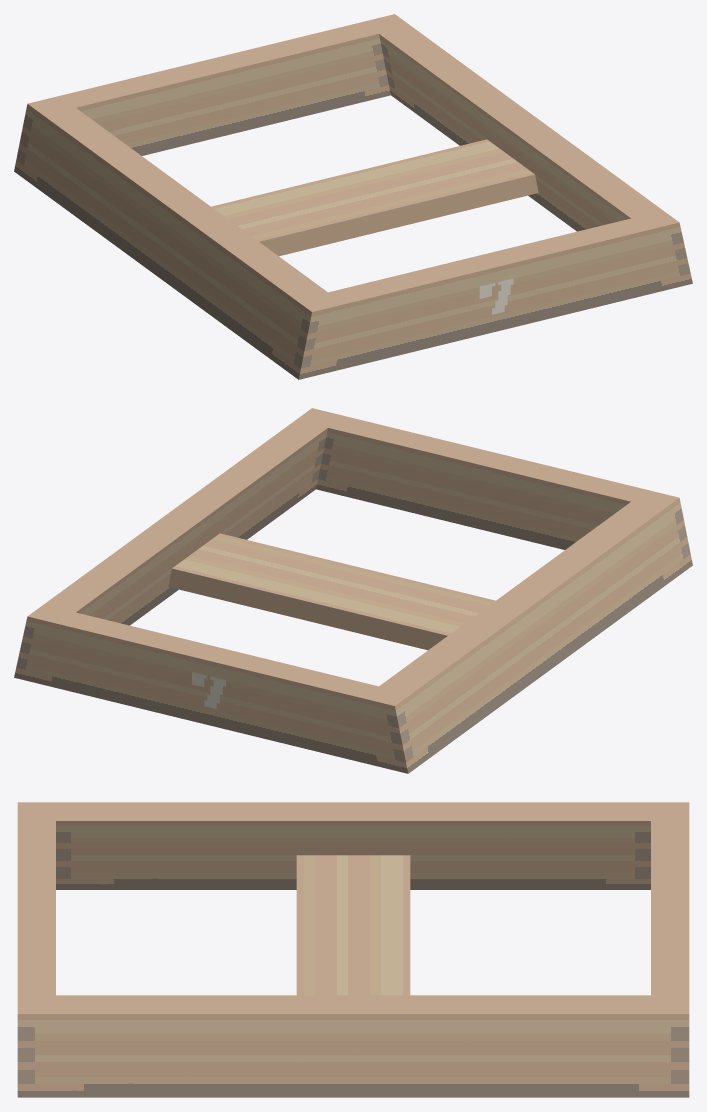
File: 007d_7th_Step.glb
3 views of the same model, one above another, from view 1: azimuth 30°, elevation 25°; view 2: azimuth 150°, elevation 25°; view 3: azimuth 270°, elevation 25° (orthographic). The views are drawn at different scales.
Visible parts, largest first — view 1: part_0; view 2: part_0; view 3: part_0.
Boxes of the visible parts, x1=… form: part_0: x1=14, y1=14, x2=692, y2=379; part_0: x1=14, y1=408, x2=692, y2=773; part_0: x1=17, y1=802, x2=689, y2=1097.
Size of the model in its own units: 0.6396 by 0.1 by 0.8087.
Materials: 1 (1 with a texture image).
